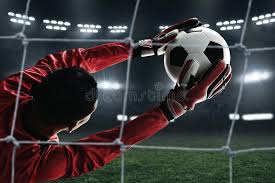football ball: (162, 26, 230, 93)
